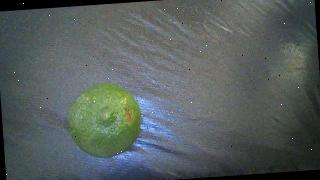DESECHO: (66, 81, 143, 159)
